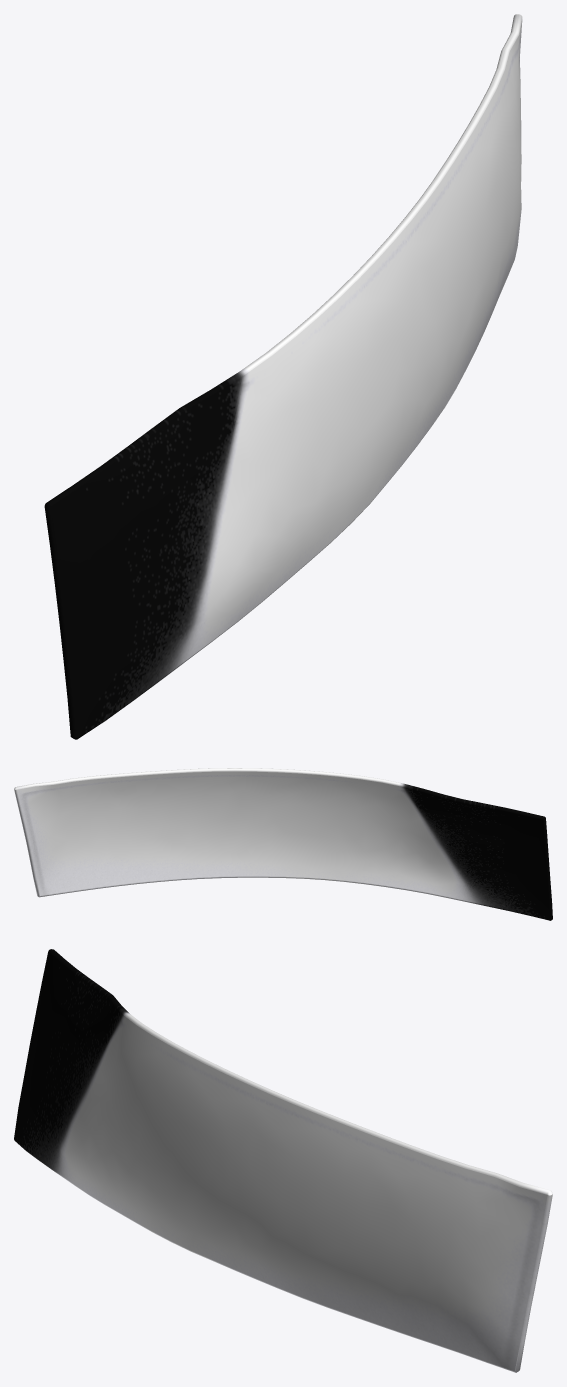
File: xiongdai.FBX
3 renders of one model, top to bottom at view 1: azimuth 30°, elevation 25°; view 2: azimuth 150°, elevation 25°; view 3: azimuth 270°, elevation 25°, orthographic. The views are drawn at different scales.
Parts seen in each view (by area): view 1: default011; view 2: default011; view 3: default011.
Boxes of the visible parts, box(x1,y1,x2,y2) form: default011: box(44, 14, 522, 739); default011: box(14, 768, 552, 920); default011: box(14, 949, 552, 1372).
Size of the model in its own units: 8.07 by 3.12 by 5.77.
